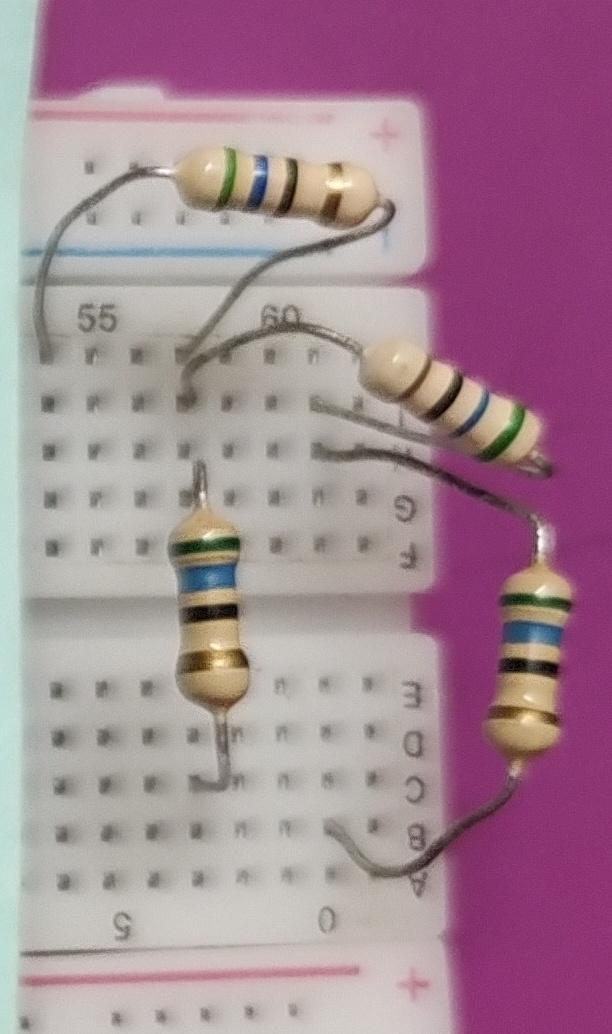resistor: (345, 325, 568, 479), (153, 505, 267, 724), (163, 133, 393, 239), (479, 553, 584, 780)
